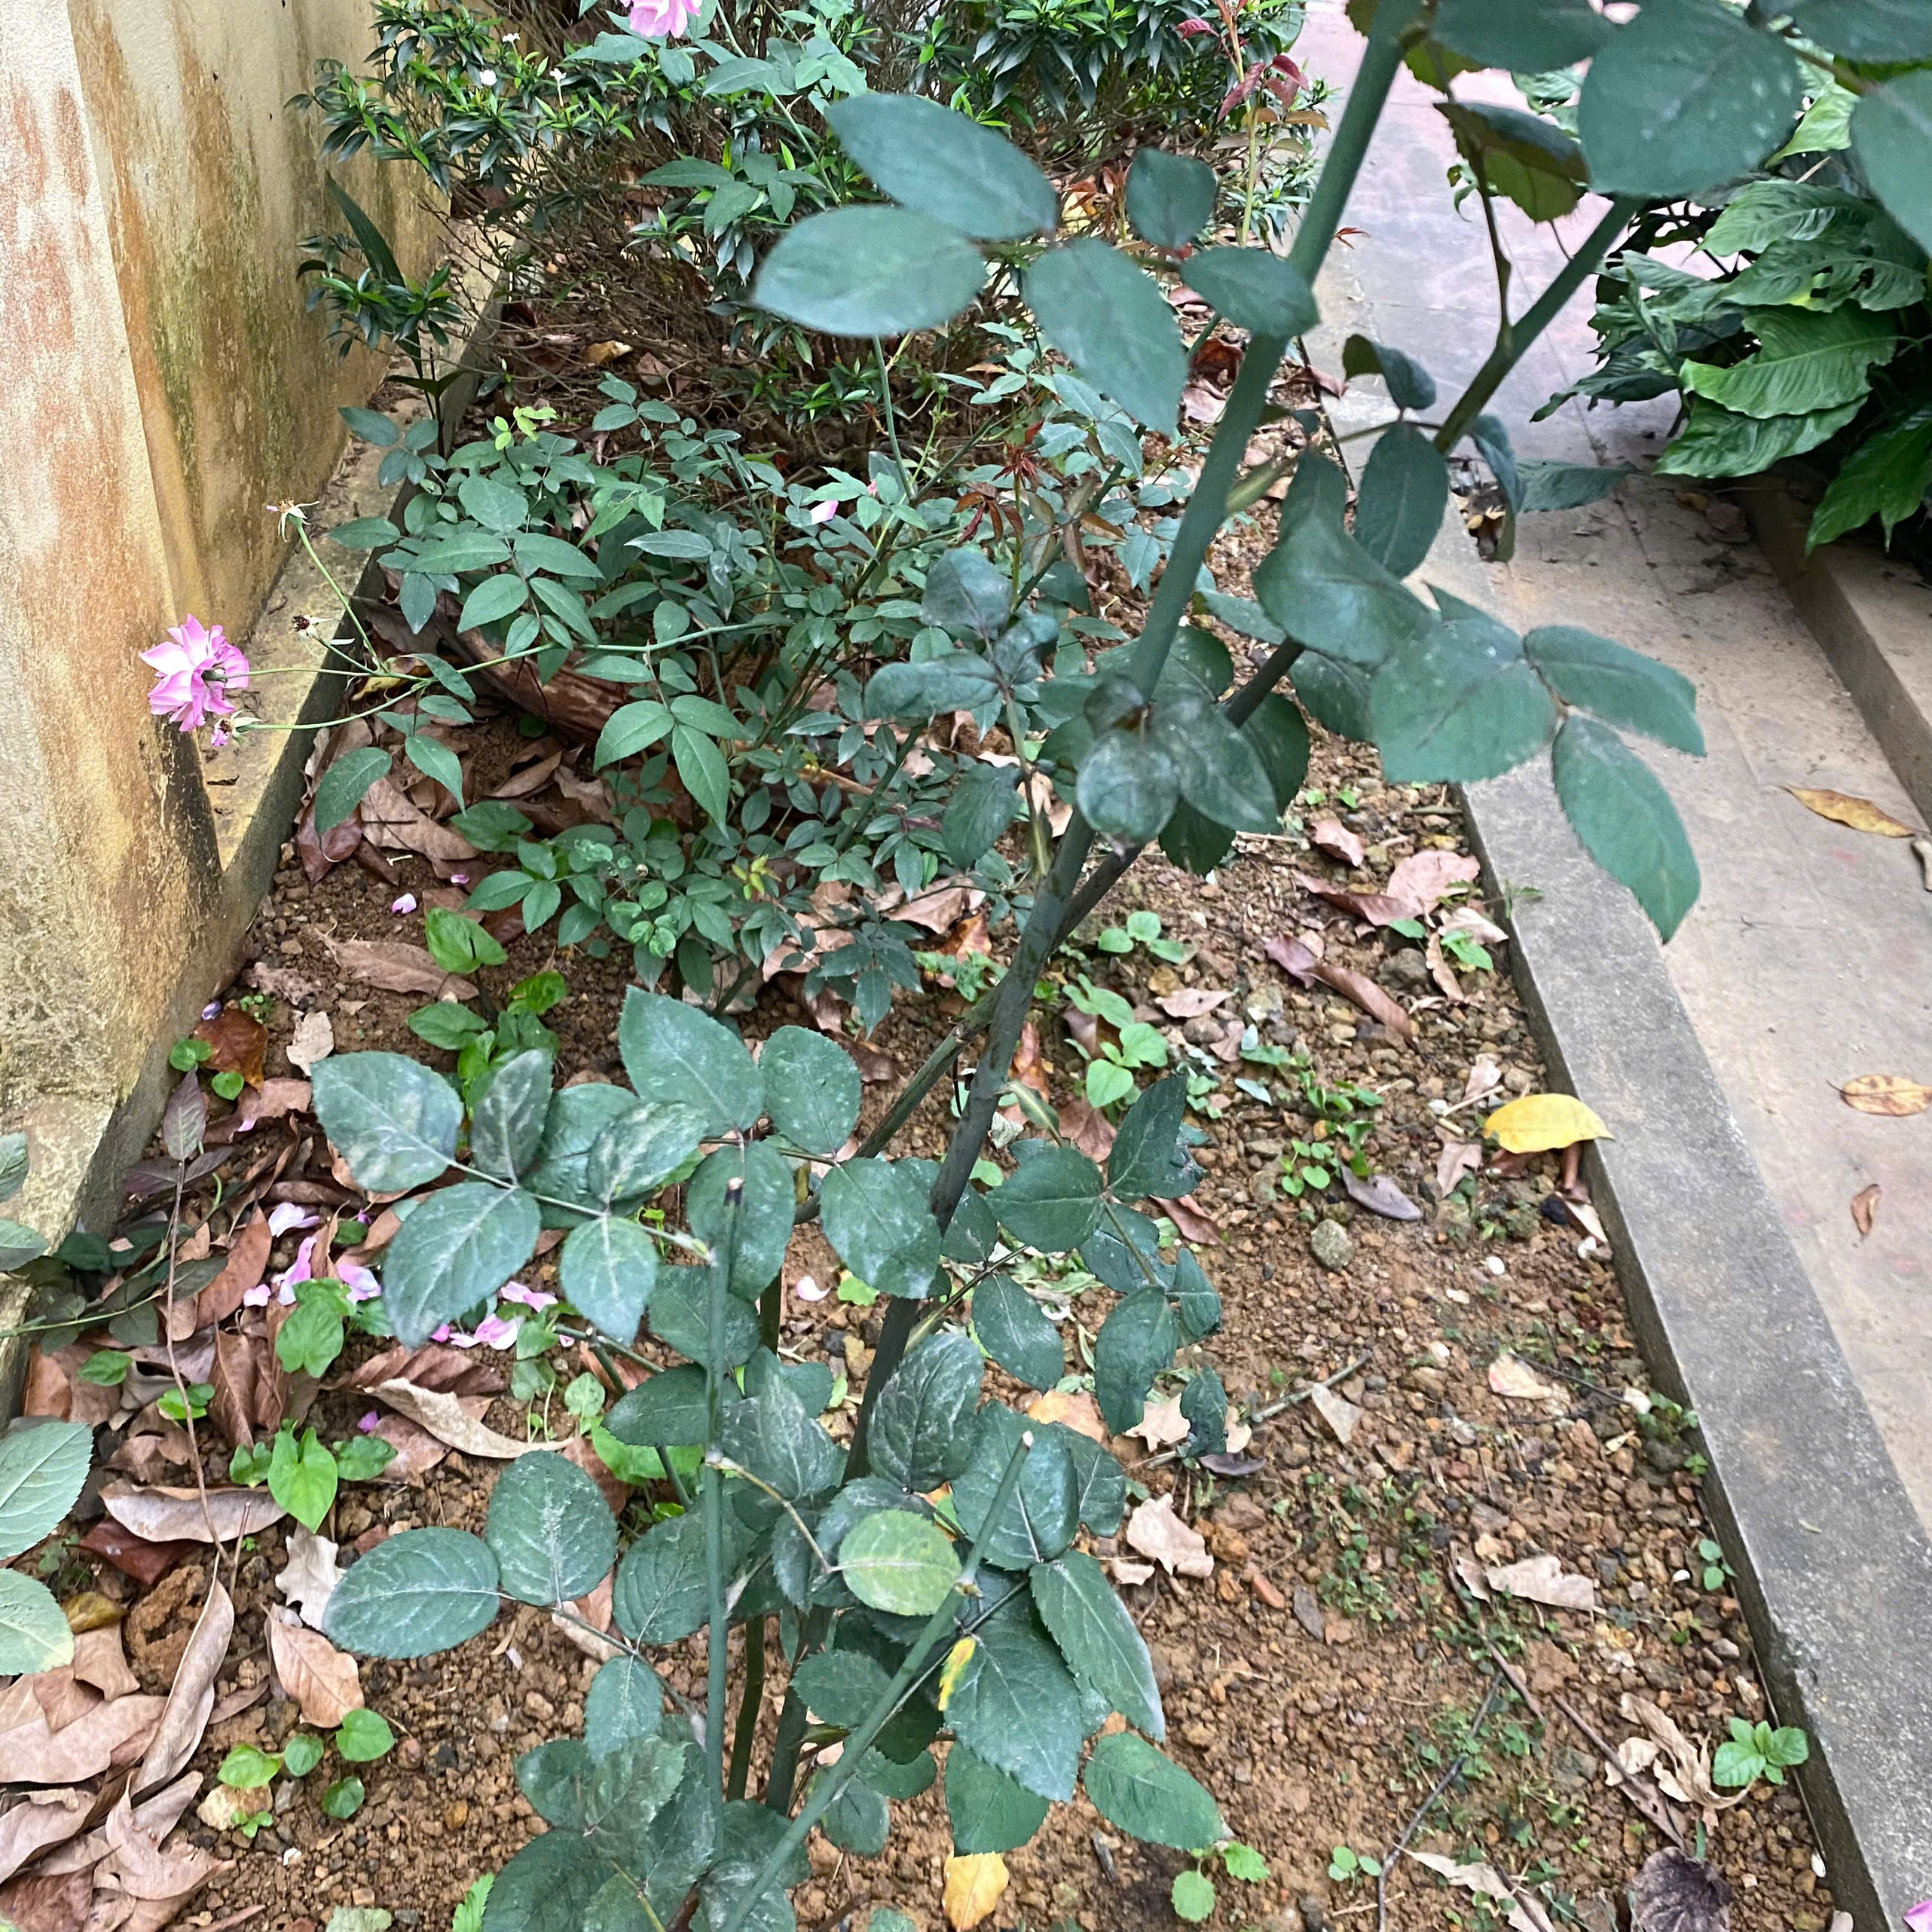hoa_hong_do: (755, 142, 1242, 1913)
